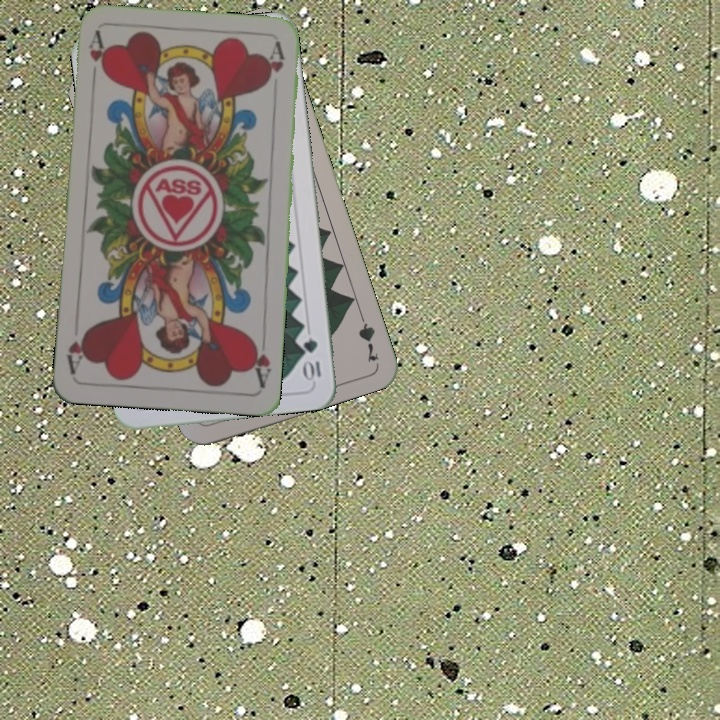G10: (299, 334, 324, 383)
G7: (354, 306, 382, 365)
HA: (246, 333, 274, 390), (85, 28, 109, 88)
